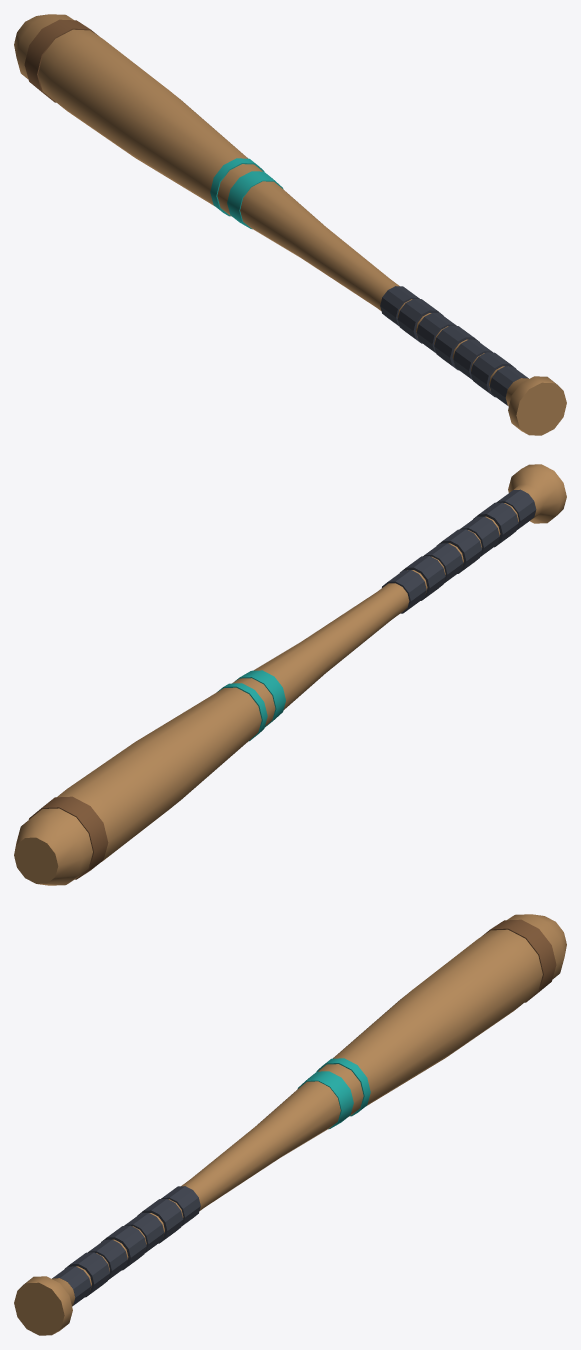
Rendered from bat.glb.
3 views of the same model, one above another, from view 1: azimuth 30°, elevation 25°; view 2: azimuth 150°, elevation 25°; view 3: azimuth 330°, elevation 25° (orthographic).
Parts seen in each view (by area): view 1: Body; view 2: Body; view 3: Body.
Boxes of the visible parts, left/top/right/bottom form: Body: left=14, top=14, right=566, bottom=435; Body: left=14, top=464, right=566, bottom=885; Body: left=14, top=914, right=566, bottom=1335.
Bounding box in the file's own units: 0.0676 × 0.0676 × 0.83.
